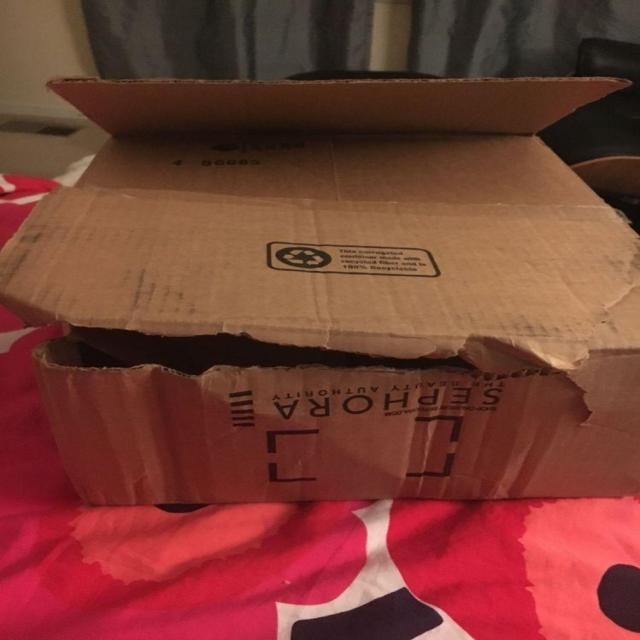damaged: (21, 290, 634, 430)
